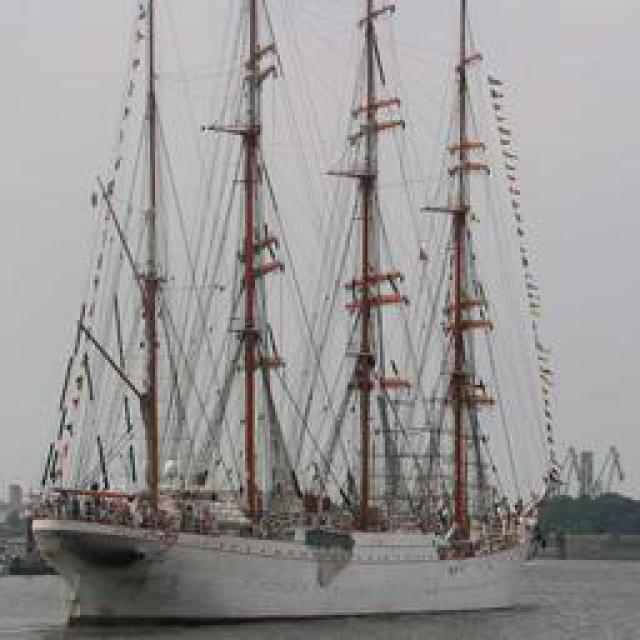Ship: (27, 1, 560, 611)
